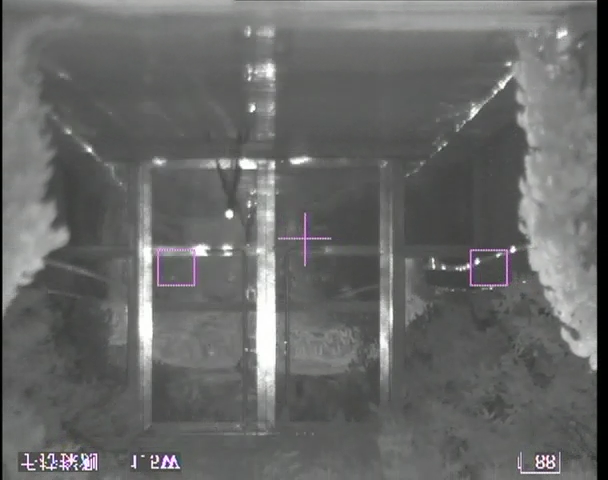my: (223, 208, 235, 219)
